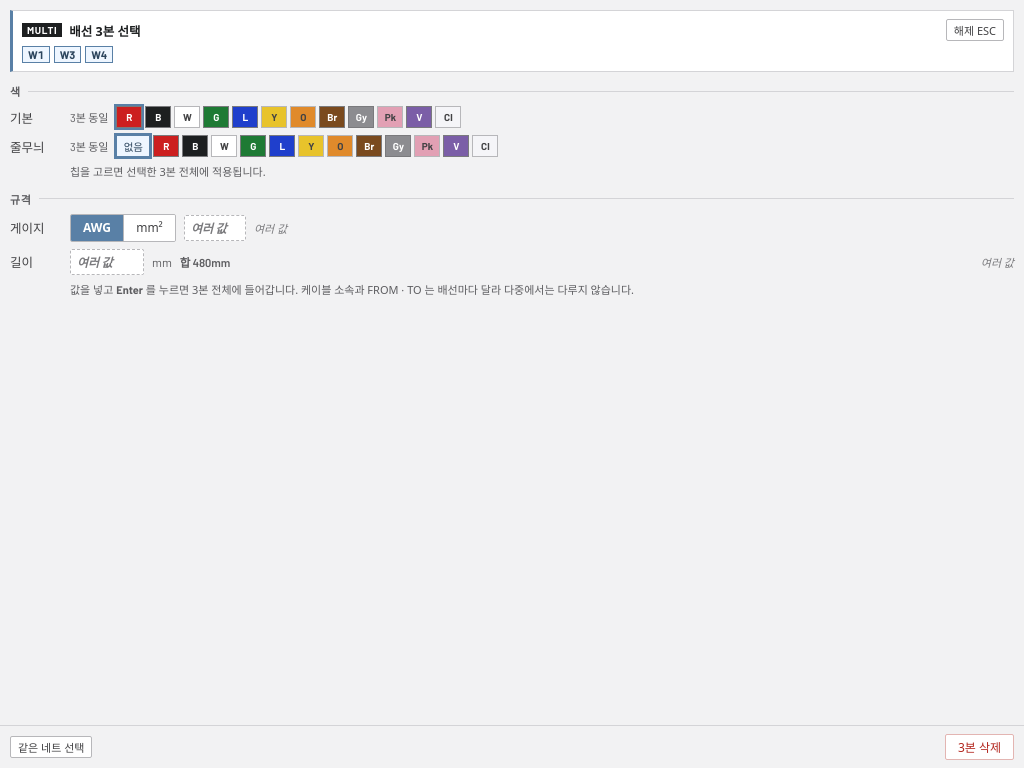
§11 실행취소 — 확인 대화상자를 두지 않는다 › "3본 삭제"는 바로 지우고, 토스트의 실행취소가 한 번에 되돌린다
Click the button "3본 삭제".
click(979, 747)  # box [945,734,1014,760]
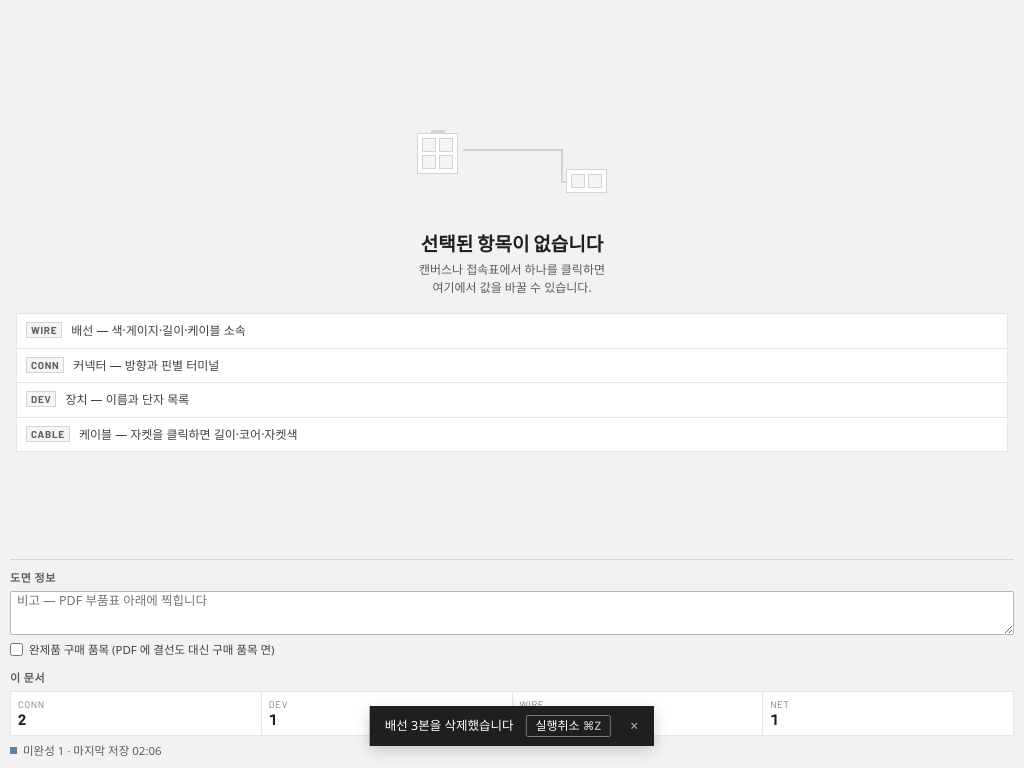
Check: the text "배선 3본을 삭제했습니다" is shown, box [385,717,514,735]
Click the button "실행취소 ⌘Z".
click(568, 726)  # box [526,715,611,737]
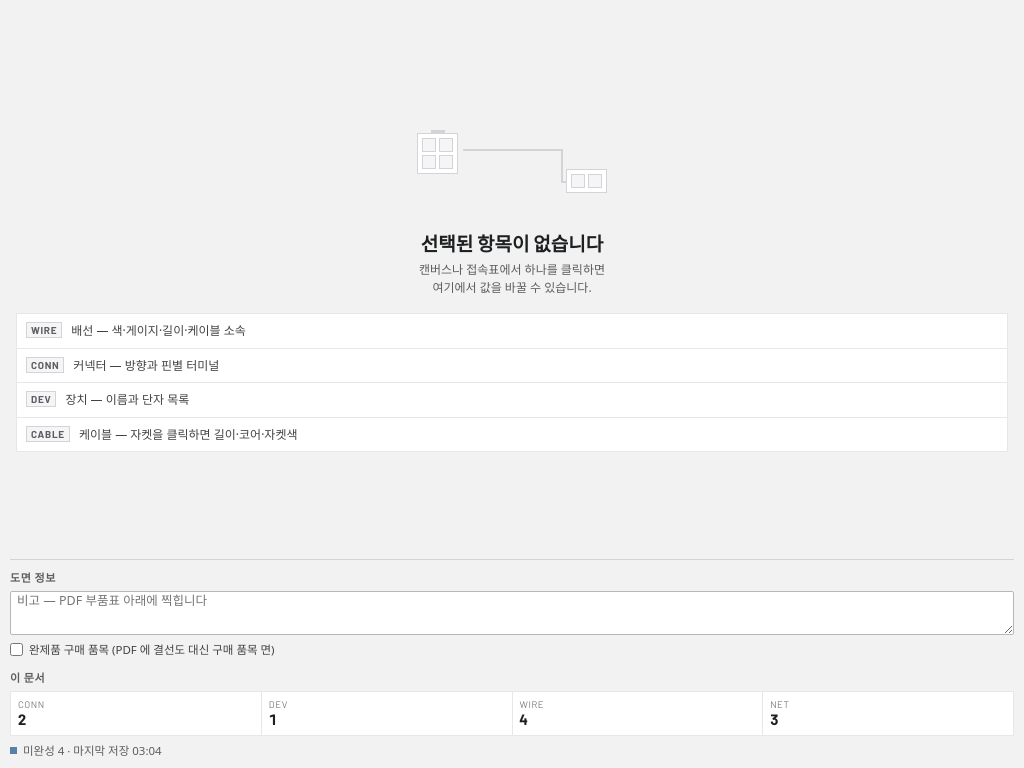
Check: the text "배선 3본을 삭제했습니다" is gone
